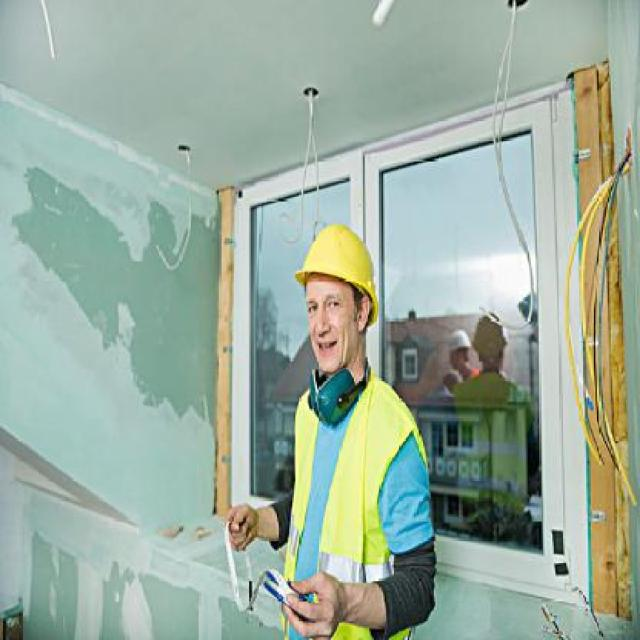safetyhelmet: (290, 224, 386, 393)
